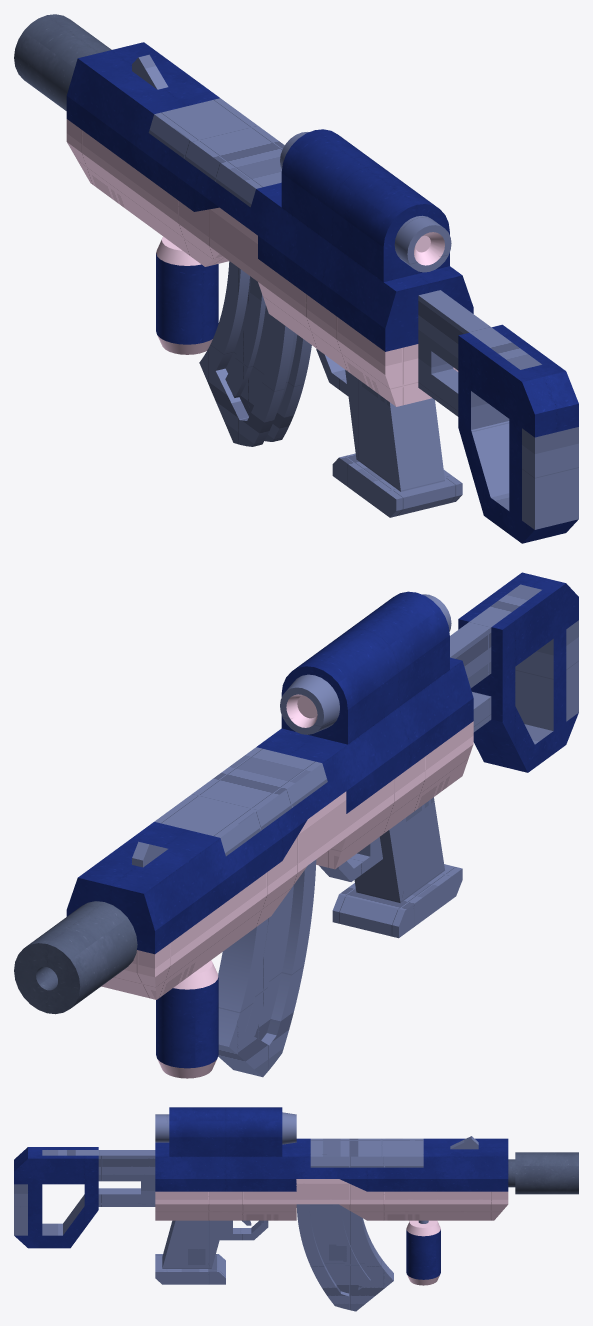
The picture shows the model from 3 angles, top to bottom: view 1: azimuth 30°, elevation 25°; view 2: azimuth 150°, elevation 25°; view 3: azimuth 270°, elevation 25°; orthographic projection. The views are drawn at different scales.
Parts seen in each view (by area): view 1: mediumBlaster_handle, stock_tactical, mediumBlaster_centerDetail, scope_small, mediumBlaster_barrelSilencer, clip_banana, attachment_handle, detailTargetSightFront; view 2: mediumBlaster_handle, mediumBlaster_barrelSilencer, mediumBlaster_centerDetail, stock_tactical, scope_small, clip_banana, attachment_handle; view 3: mediumBlaster_handle, mediumBlaster_centerDetail, stock_tactical, mediumBlaster_barrelSilencer, clip_banana, scope_small, attachment_handle, detailTargetSightFront.
Part boxes in pixels (x1,y1,x2,y2): mediumBlaster_handle: [258, 195, 473, 517]; stock_tactical: [418, 290, 578, 543]; mediumBlaster_centerDetail: [130, 89, 284, 281]; scope_small: [280, 129, 451, 281]; mediumBlaster_barrelSilencer: [14, 14, 207, 219]; clip_banana: [199, 261, 311, 446]; attachment_handle: [156, 237, 218, 354]; detailTargetSightFront: [132, 54, 168, 89]; mediumBlaster_handle: [269, 657, 473, 938]; mediumBlaster_barrelSilencer: [14, 831, 218, 1014]; mediumBlaster_centerDetail: [142, 738, 346, 961]; stock_tactical: [450, 572, 578, 772]; scope_small: [280, 591, 451, 744]; clip_banana: [218, 859, 316, 1077]; attachment_handle: [156, 960, 218, 1078]; mediumBlaster_handle: [155, 1142, 296, 1284]; mediumBlaster_centerDetail: [296, 1138, 437, 1220]; stock_tactical: [14, 1147, 155, 1248]; mediumBlaster_barrelSilencer: [437, 1138, 578, 1220]; clip_banana: [296, 1204, 393, 1311]; scope_small: [155, 1107, 296, 1156]; attachment_handle: [406, 1220, 440, 1285]; detailTargetSightFront: [450, 1136, 478, 1149].
Bounding box in the file's own units: 0.4 × 1.55 × 4.
20 materials, 20 textured.
